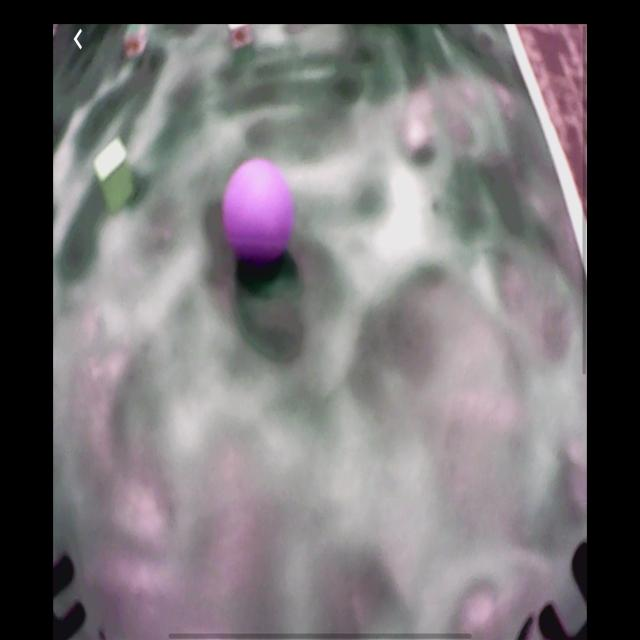ball: (223, 159, 295, 265)
